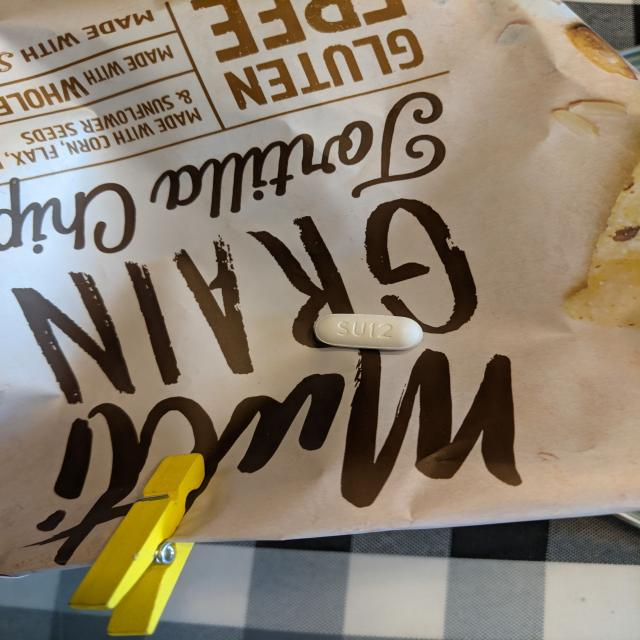non-organic waste: (314, 312, 424, 351)
